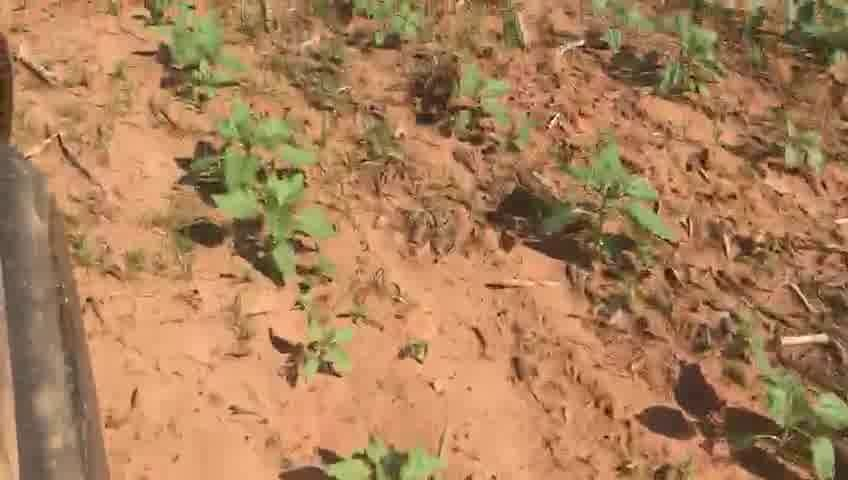sunflower: (185, 151, 336, 287), (536, 142, 675, 255), (747, 334, 841, 476), (204, 97, 320, 168), (160, 9, 248, 99), (306, 433, 453, 477), (271, 306, 352, 383), (649, 22, 730, 97), (440, 62, 508, 135), (768, 115, 832, 175), (371, 7, 424, 51), (508, 107, 543, 160)
